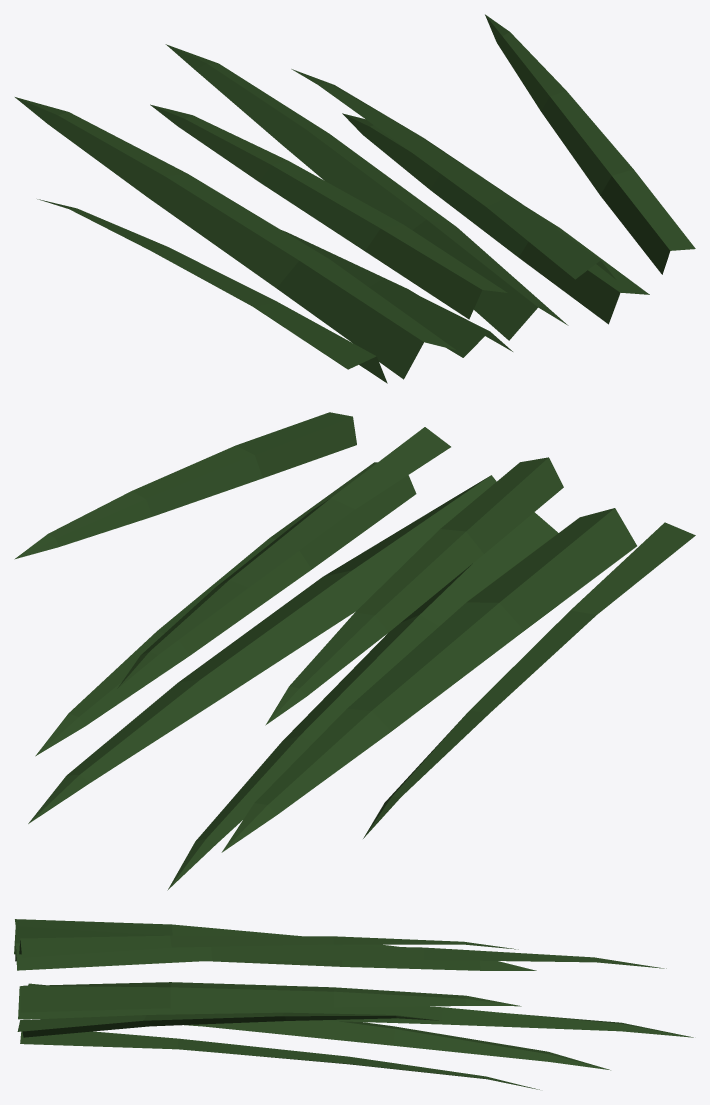
Rendered from grass.fbx.
3 renders of one model, top to bottom at view 1: azimuth 30°, elevation 25°; view 2: azimuth 150°, elevation 25°; view 3: azimuth 270°, elevation 25°, orthographic. The views are drawn at different scales.
Parts seen in each view (by area): view 1: Plane.003; view 2: Plane.003; view 3: Plane.003.
Boxes of the visible parts, left/top/right/bottom form: Plane.003: left=15, top=14, right=695, bottom=383; Plane.003: left=14, top=412, right=695, bottom=890; Plane.003: left=14, top=919, right=693, bottom=1089.
Size of the model in its own units: 152 by 68.31 by 274.
